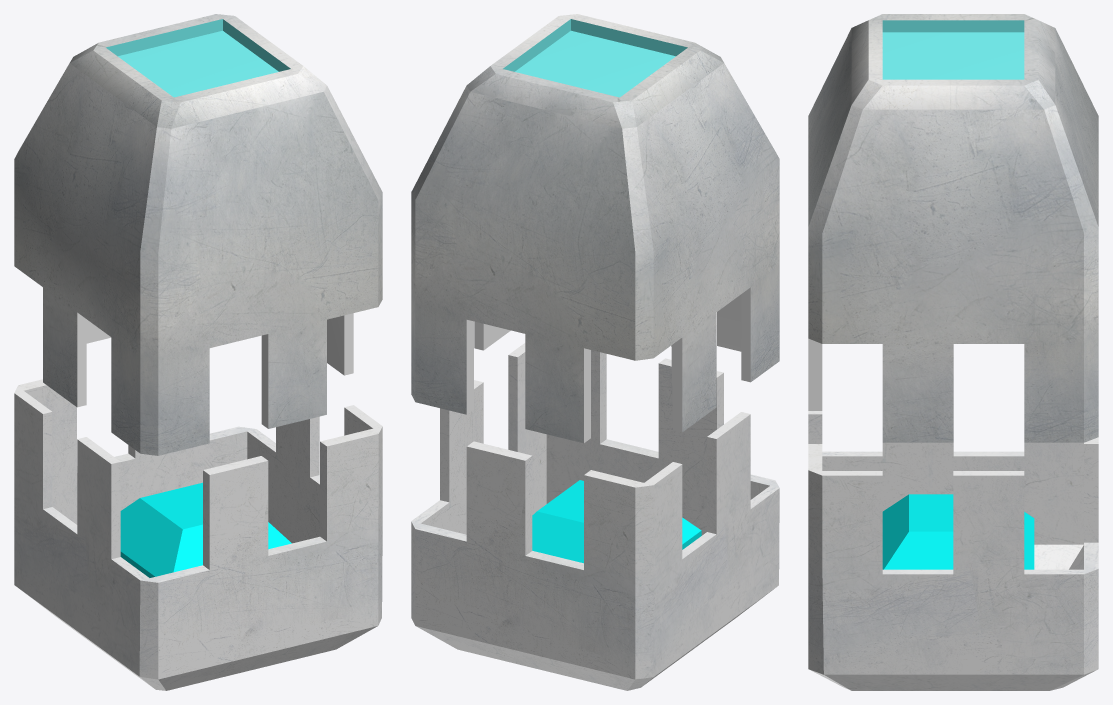
File: Crate1.fbx
3 views of the same model, side by side, from view 1: azimuth 30°, elevation 25°; view 2: azimuth 150°, elevation 25°; view 3: azimuth 270°, elevation 25° (orthographic). The views are drawn at different scales.
Visible parts, largest first — view 1: CrateTop, CrateBottom; view 2: CrateTop, CrateBottom; view 3: CrateTop, CrateBottom.
Boxes of the visible parts, box(x1,y1,x2,y2) form: CrateTop: box(14, 14, 382, 455); CrateBottom: box(14, 379, 382, 690); CrateTop: box(411, 14, 779, 443); CrateBottom: box(411, 343, 779, 690); CrateTop: box(808, 14, 1098, 442); CrateBottom: box(808, 411, 1098, 690).
Bounding box in the file's own units: 8 × 18.08 × 8.
